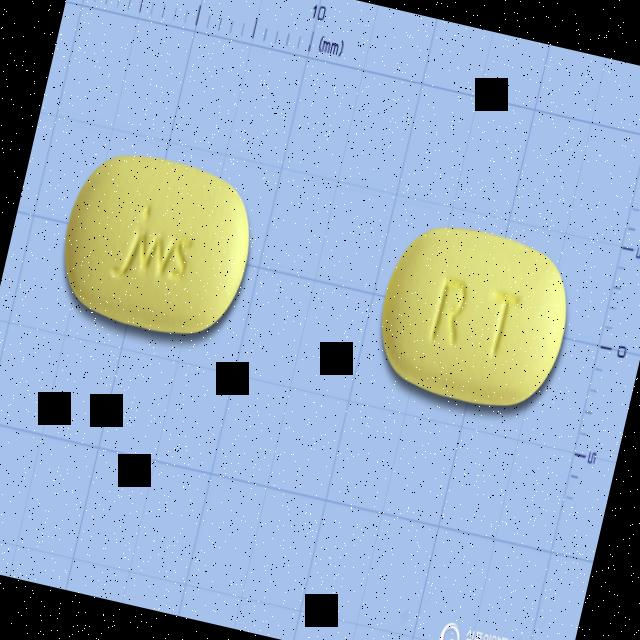Liamclo: (49, 141, 264, 348), (365, 214, 582, 419)
